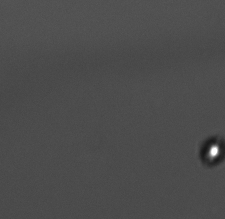Living Cell: (199, 136, 222, 166)
